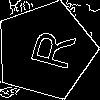R: (20, 25, 76, 72)
